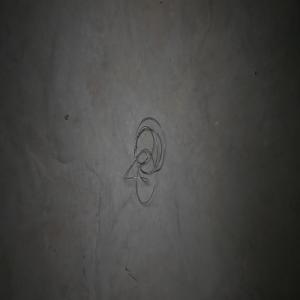Wire: (123, 117, 164, 203)
